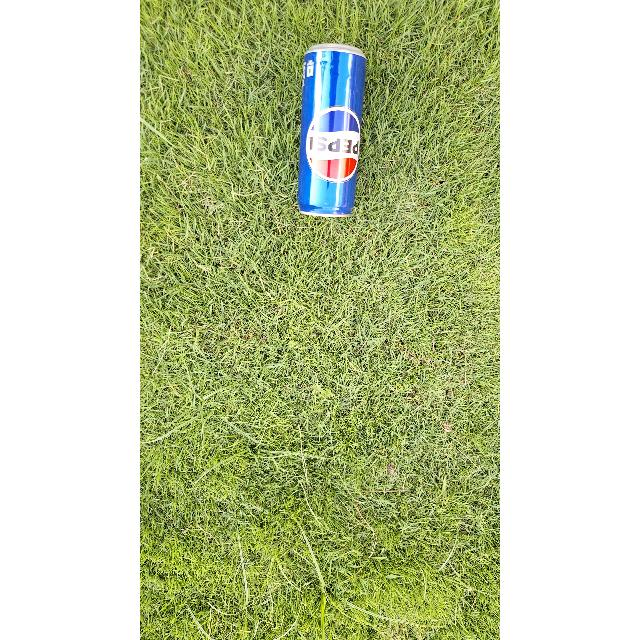Pepsi: (298, 46, 366, 218)
